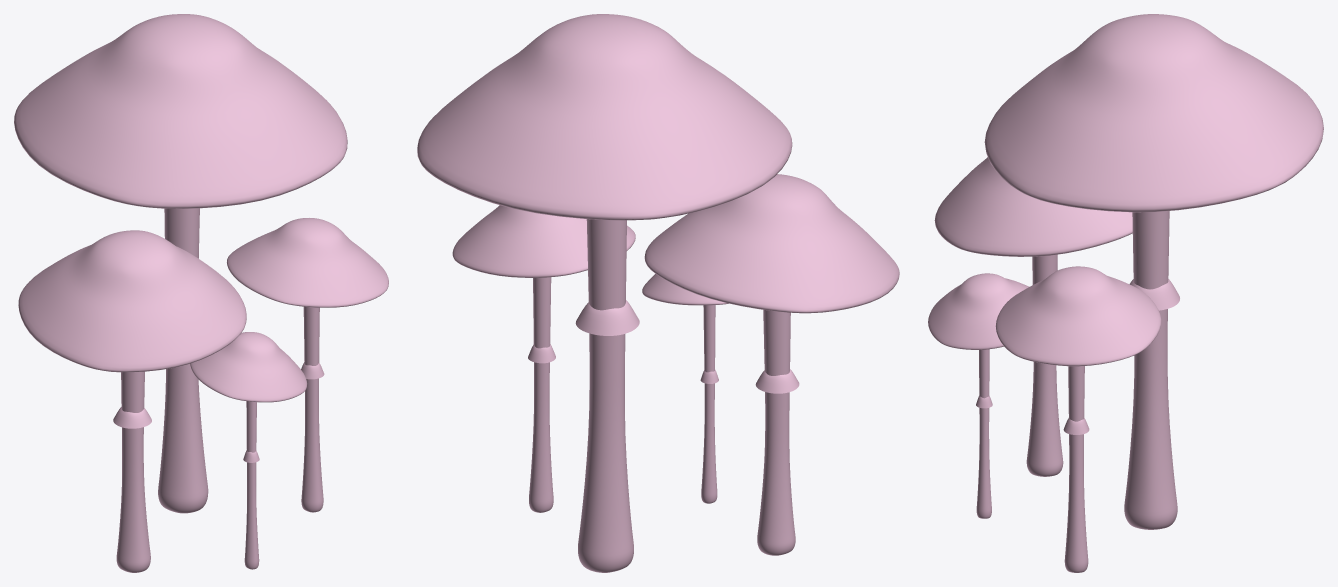
The model's file is mushroom2.fbx.
3 views of the same model, side by side, from view 1: azimuth 30°, elevation 25°; view 2: azimuth 150°, elevation 25°; view 3: azimuth 270°, elevation 25° (orthographic). The views are drawn at different scales.
Parts seen in each view (by area): view 1: ube.005; view 2: ube.005; view 3: ube.005.
Boxes of the visible parts, x1=… form: ube.005: x1=14, y1=14, x2=388, y2=572; ube.005: x1=417, y1=14, x2=899, y2=572; ube.005: x1=928, y1=14, x2=1323, y2=572.
Bounding box in the file's own units: 56.29 × 72.63 × 52.44.
